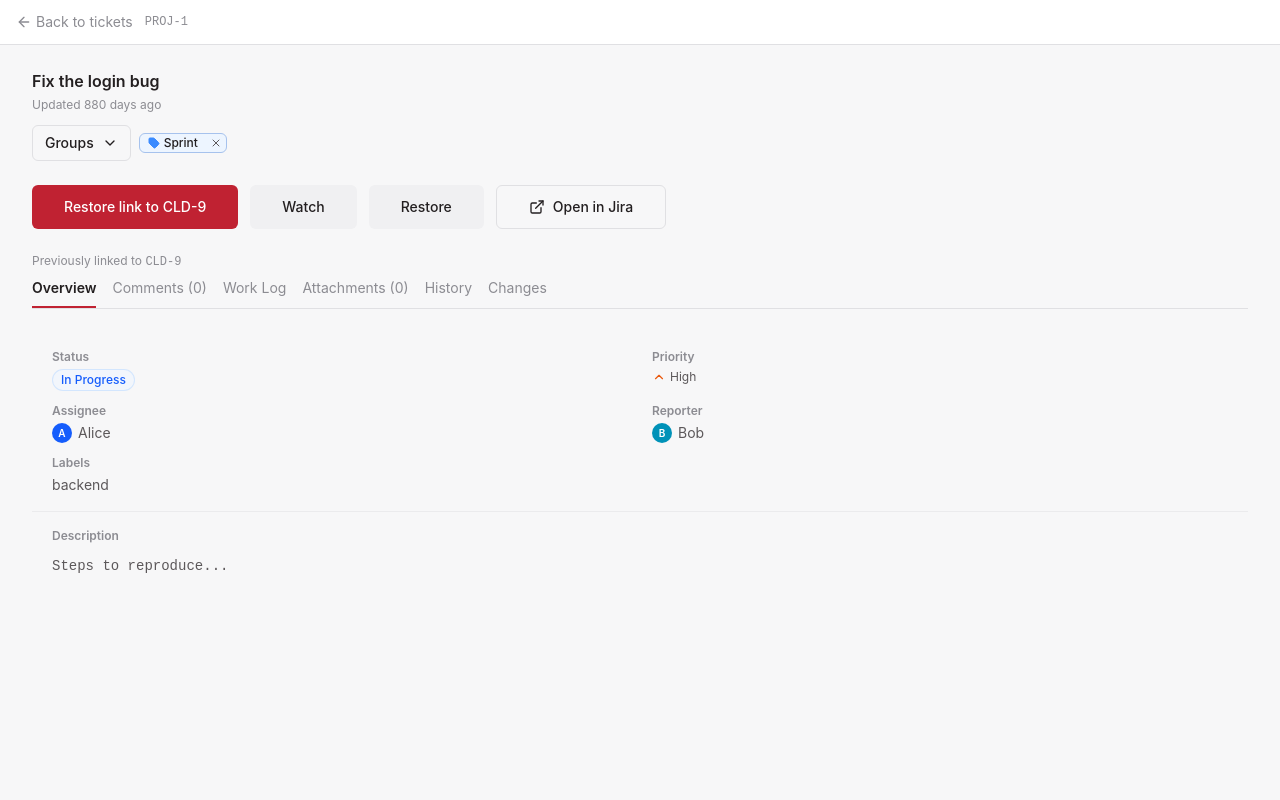
Test case: TicketDetailPage › Phase 36 deny / link › Restore link relinks, shows Linked badge focused and Deny
Click the button "Restore link to CLD-9" at (135, 207), box [32, 185, 238, 229]
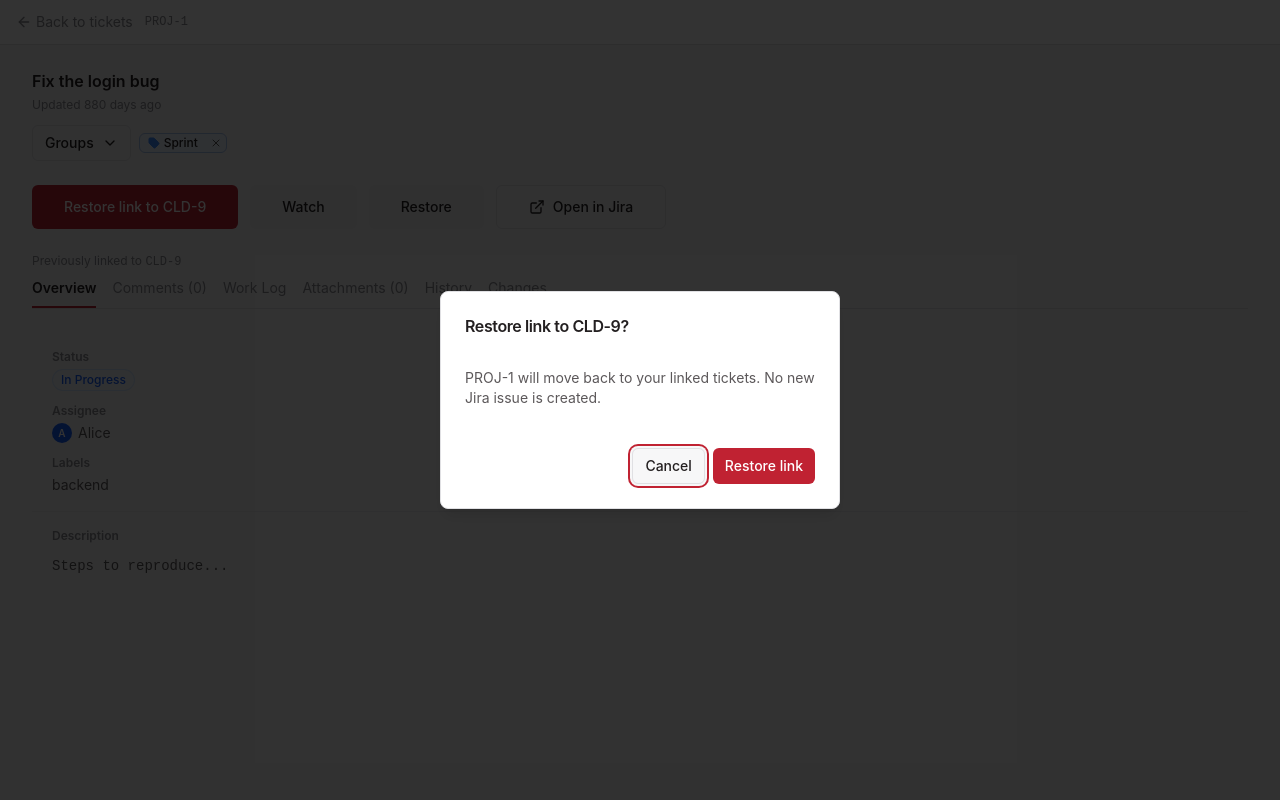
Click the button "Restore link" at (764, 466), box [713, 448, 815, 484]
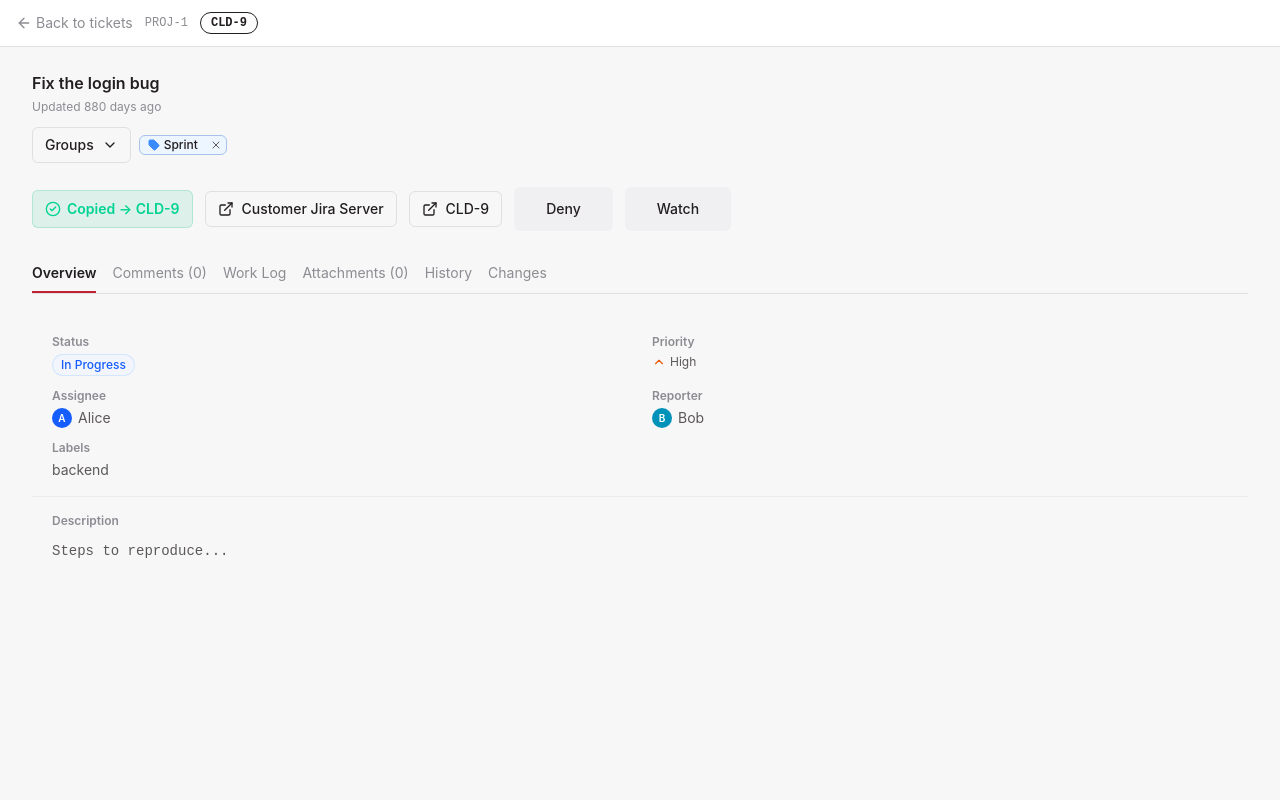
Check: the dialog is gone
Check: the button "Deny" is shown, box [514, 187, 613, 231]
